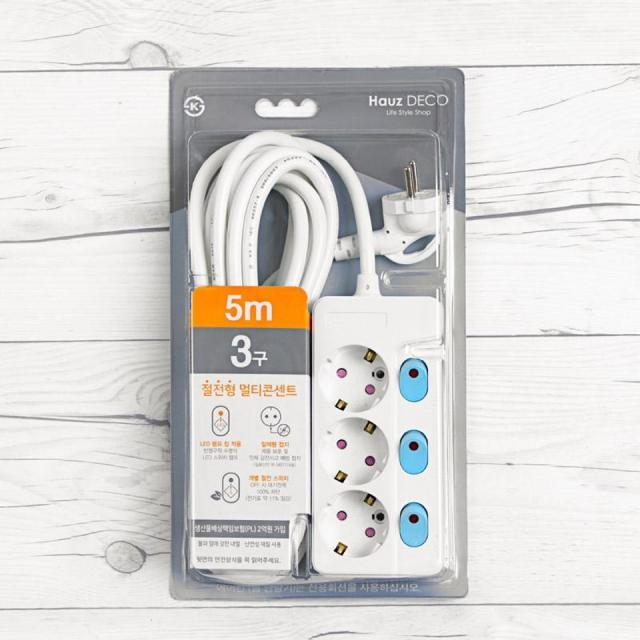typeb: (147, 80, 531, 612)
